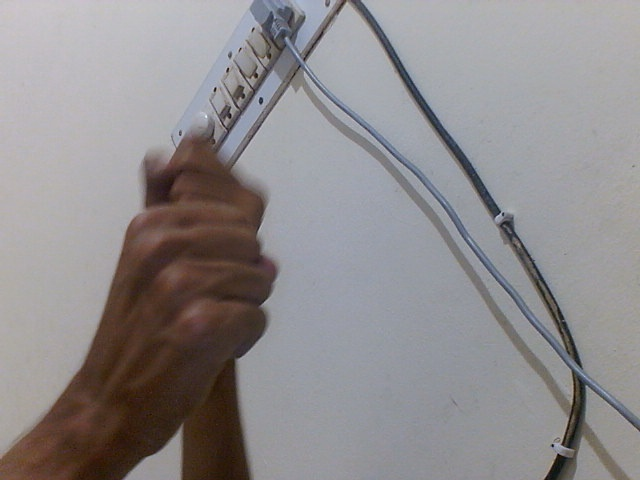hand: (68, 202, 276, 454)
